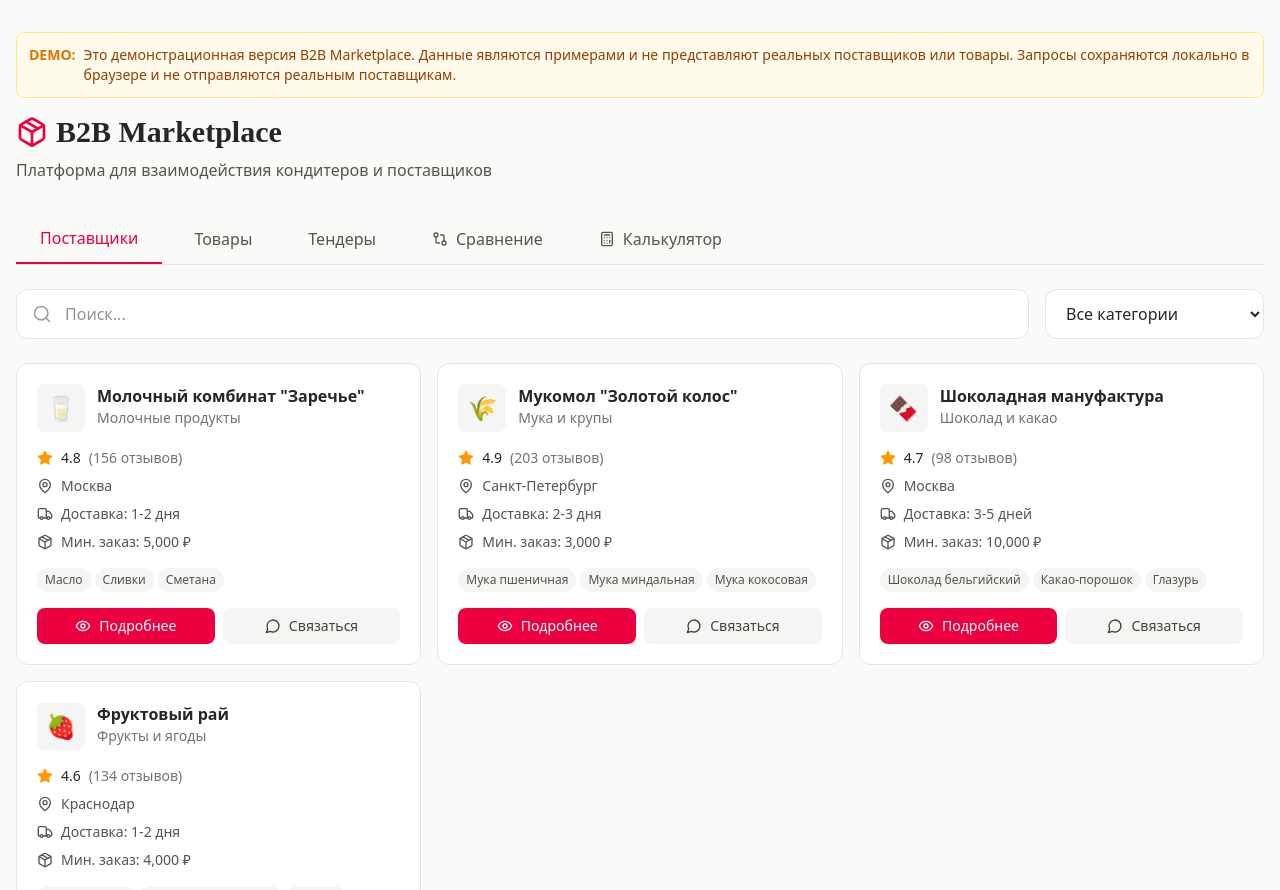
Test case: B2B Marketplace V2 › Контактный запрос › должен валидировать минимальную длину сообщения
This screenshot has width=1280, height=890.
Click the button "Связаться" below "Масло" at (312, 626), box [223,608,400,644]
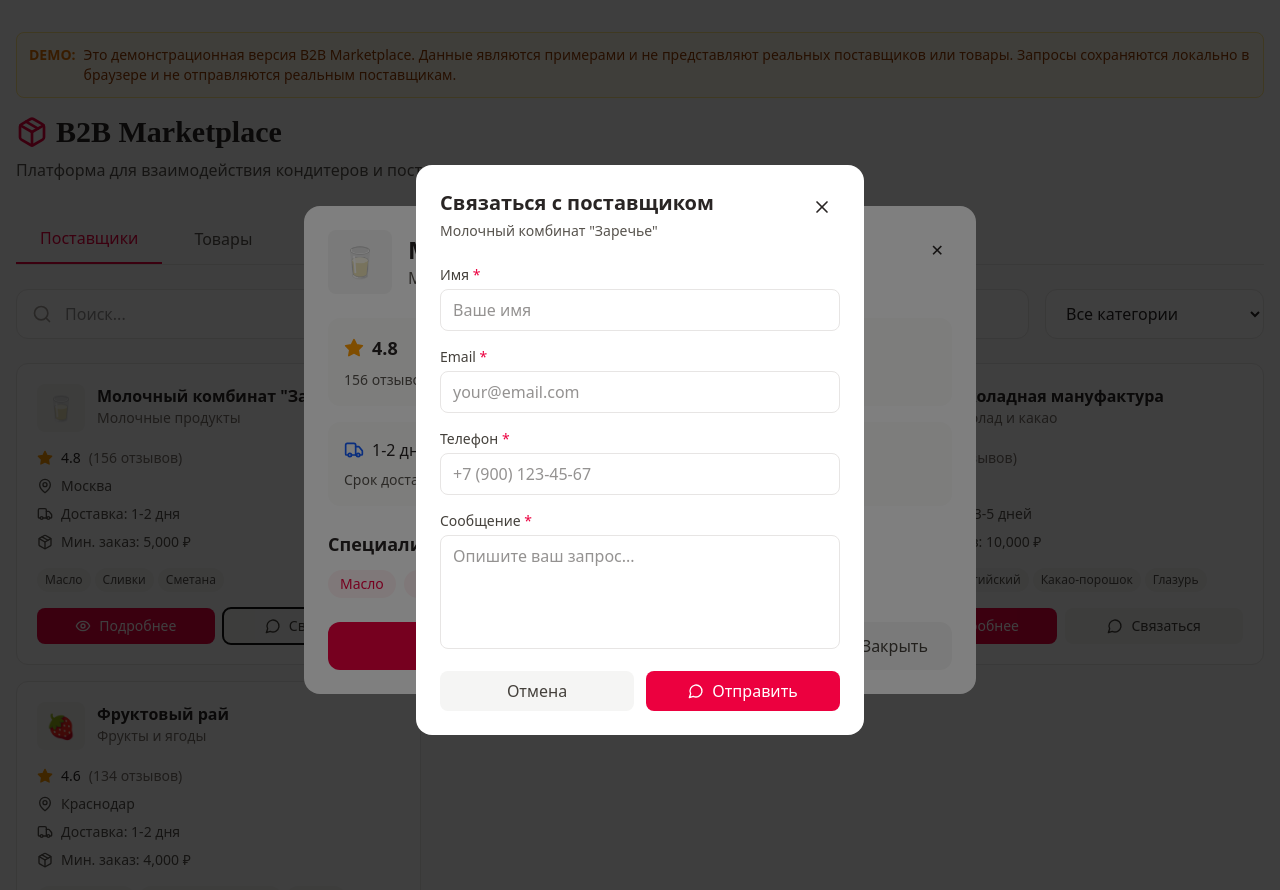
Type "короткое" into the text box with placeholder "Опишите ваш запрос..." at (640, 592), box [440,535,840,649]
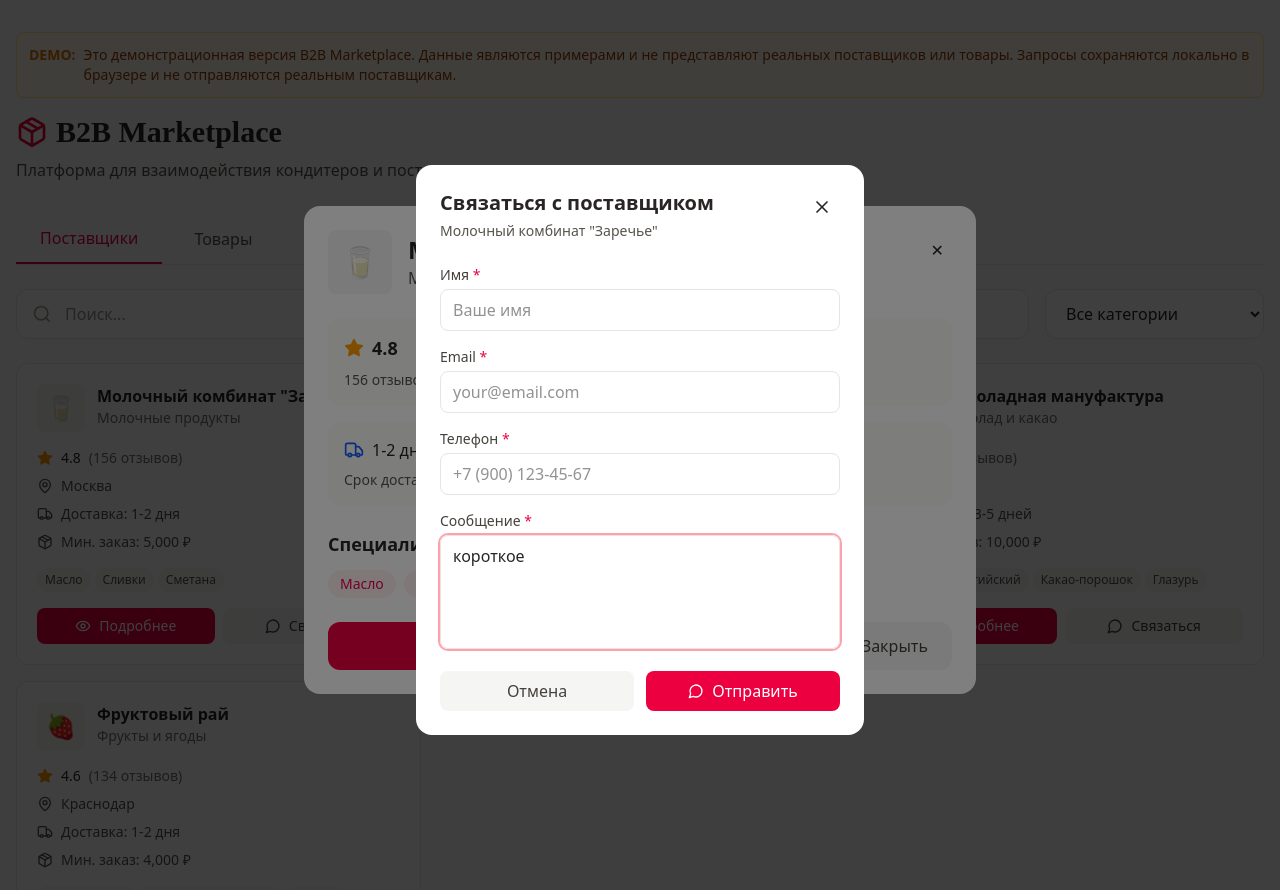
Click the button "Отправить" at (743, 691), box [646,671,840,711]
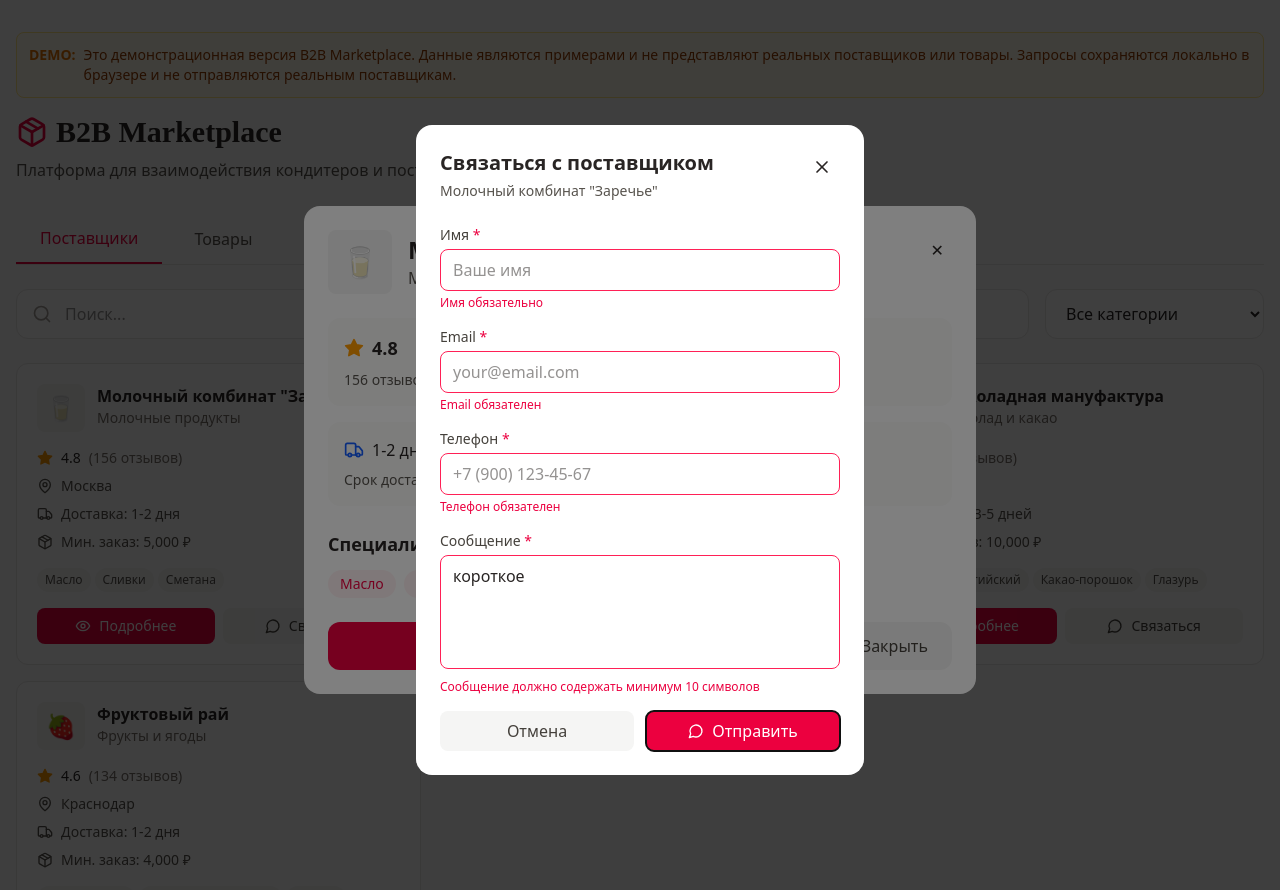
Now the text "Сообщение должно содержать минимум 10 символов" is shown, box [440,678,760,695]
